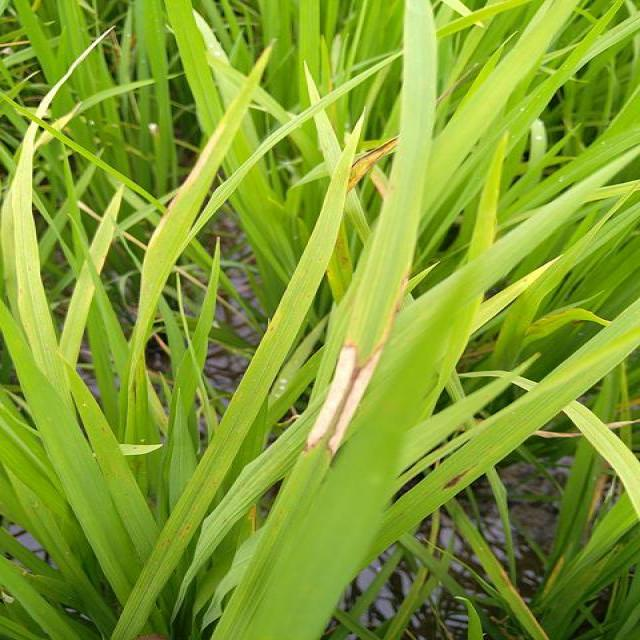Leaf Blight: (152, 109, 232, 238), (307, 343, 383, 471), (351, 145, 395, 185)
Leaf Streak: (443, 464, 489, 495)
